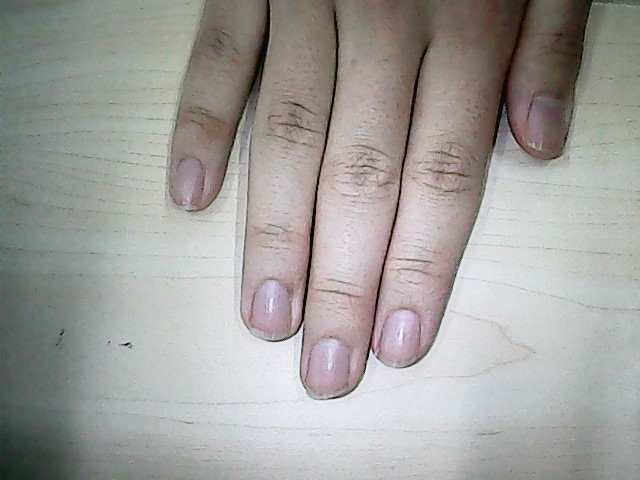nail: (526, 98, 565, 156), (310, 341, 347, 400), (254, 282, 291, 340), (386, 313, 418, 366), (176, 162, 198, 211)
